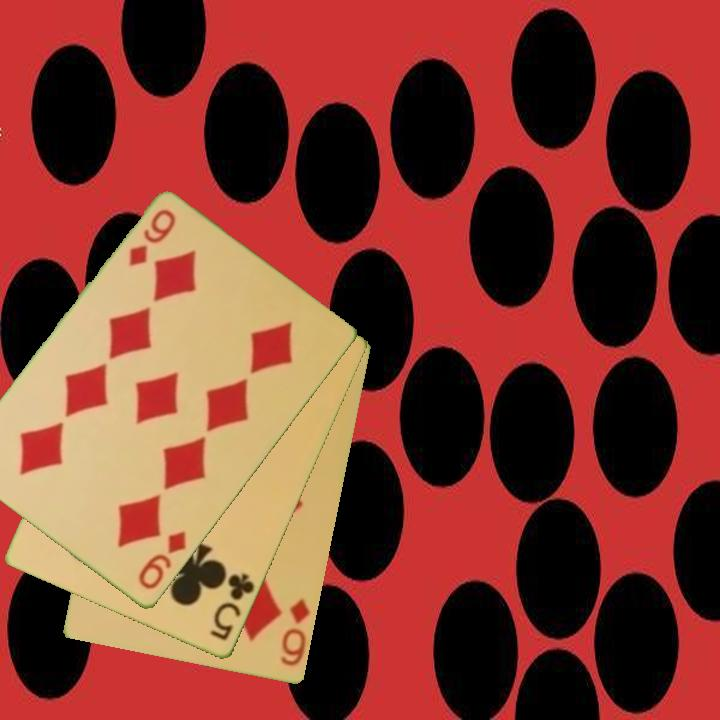5c: (207, 570, 258, 645)
6d: (277, 595, 314, 670)
9d: (134, 528, 190, 593), (125, 206, 179, 271)
